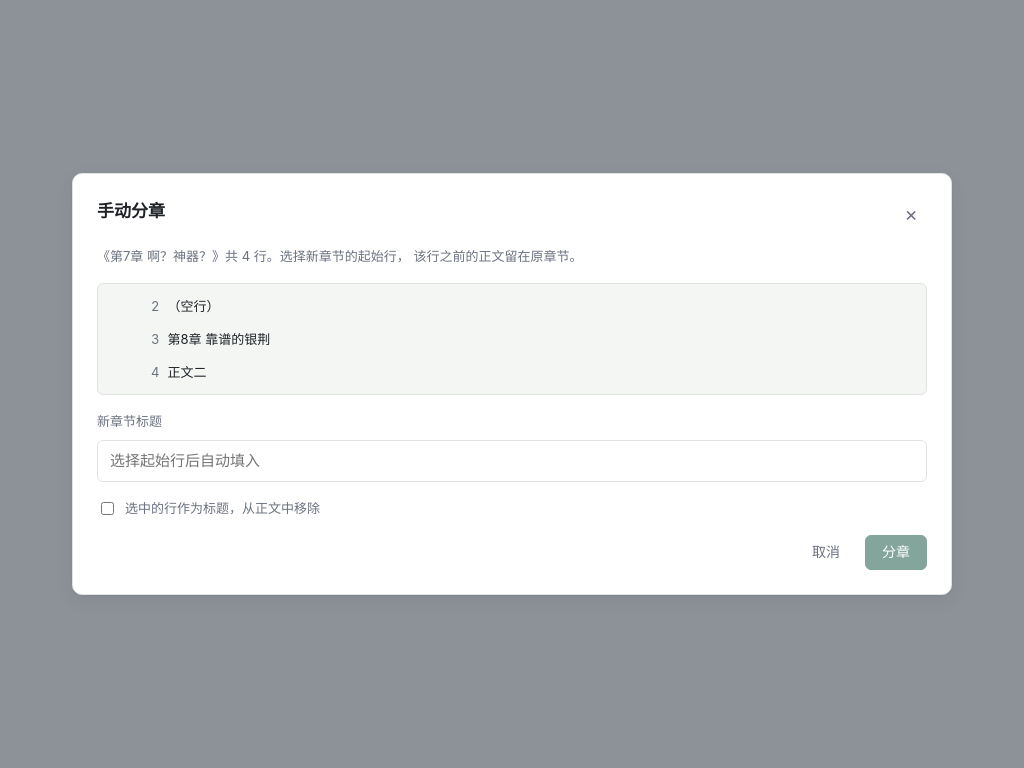
Scenario: SplitChapterDialog › disables confirm until a line is selected
Check: the button with test id "split-confirm" is disabled, box [865,535,927,570]
Click the button with test id "split-line-1" at point(194, 306), box [106,292,918,321]
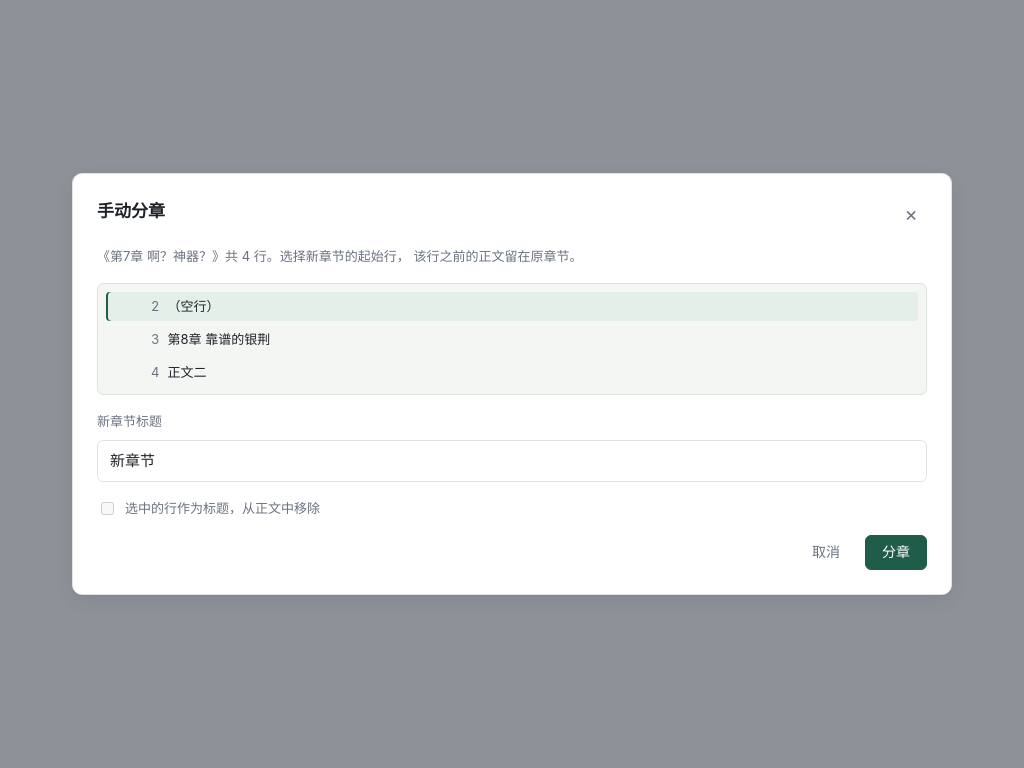
Check: the button with test id "split-confirm" is enabled, box [865,535,927,570]
